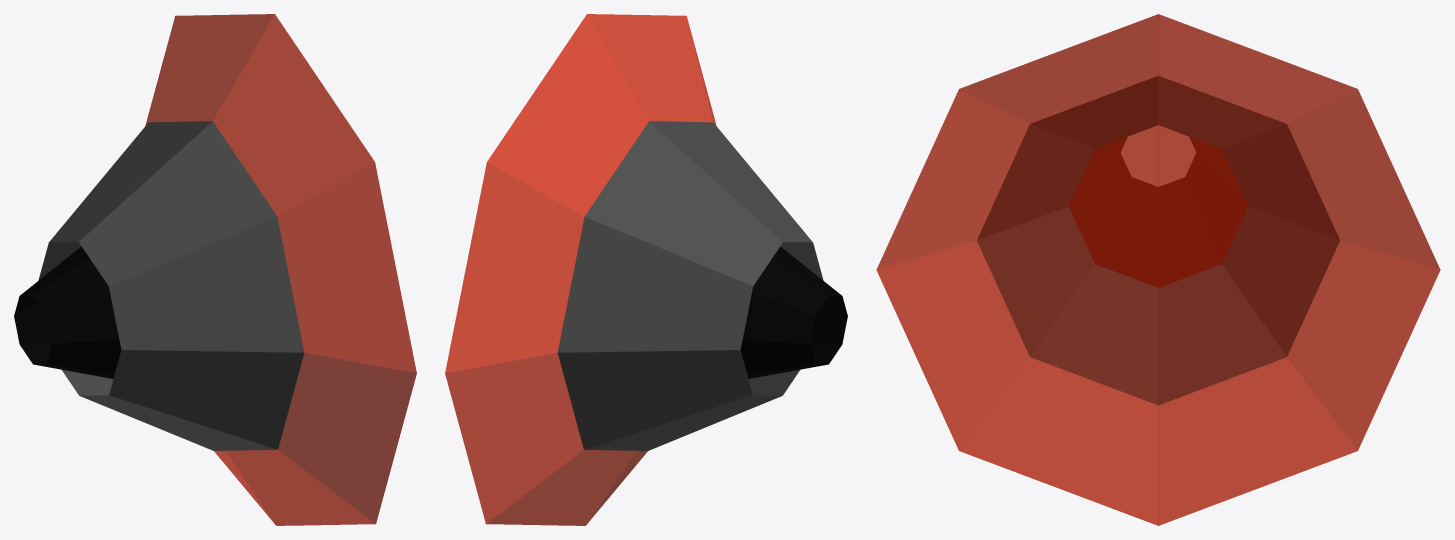
The model's file is Laser Trap.fbx.
3 renders of one model, left to right at view 1: azimuth 30°, elevation 25°; view 2: azimuth 150°, elevation 25°; view 3: azimuth 270°, elevation 25°, orthographic.
Parts seen in each view (by area): view 1: pasted__pasted__pasted__pCylinder1; view 2: pasted__pasted__pasted__pCylinder1; view 3: pasted__pasted__pasted__pCylinder1.
Boxes of the visible parts, x1,y1,x2,y2 form: pasted__pasted__pasted__pCylinder1: [14, 14, 416, 525]; pasted__pasted__pasted__pCylinder1: [445, 14, 847, 525]; pasted__pasted__pasted__pCylinder1: [876, 14, 1440, 525].
Size of the model in its own units: 3.18 by 6.39 by 6.39.
